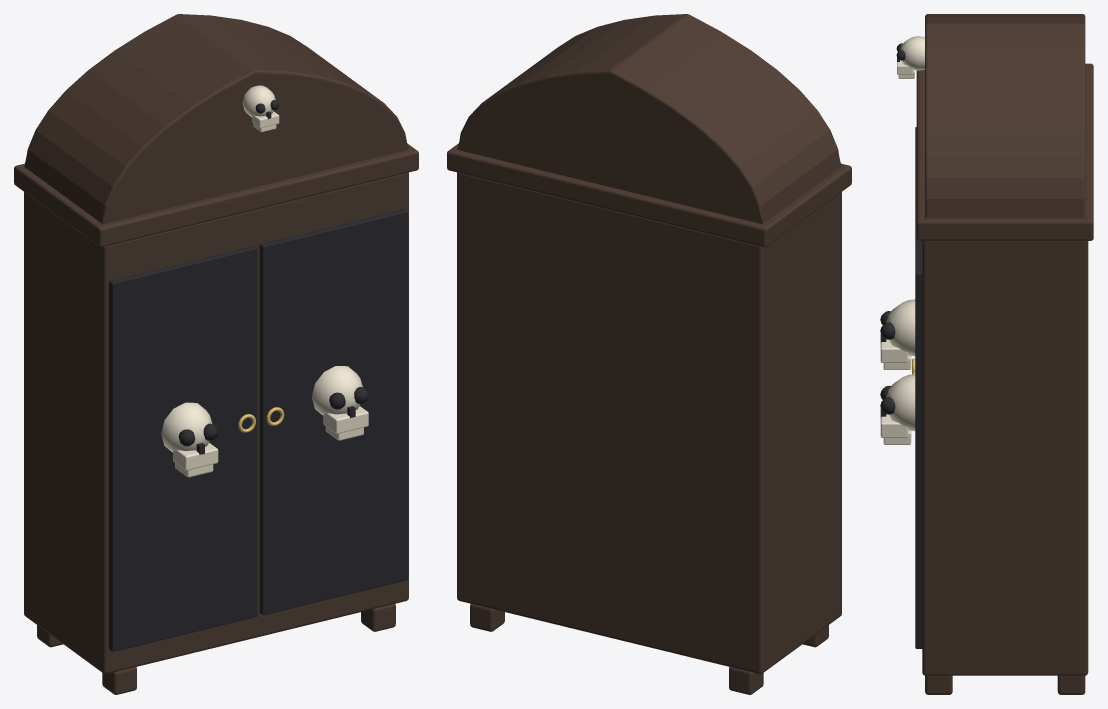
The model's file is wardrobe_carved_skull.glb.
3 views of the same model, side by side, from view 1: azimuth 30°, elevation 25°; view 2: azimuth 150°, elevation 25°; view 3: azimuth 270°, elevation 25° (orthographic).
Visible parts, largest first — view 1: GD_wardrobe_carved_skull__m0, GD_wardrobe_carved_skull__m3, GD_wardrobe_carved_skull__m2; view 2: GD_wardrobe_carved_skull__m0; view 3: GD_wardrobe_carved_skull__m0, GD_wardrobe_carved_skull__m2, GD_wardrobe_carved_skull__m3.
Boxes of the visible parts, x1,y1,x2,y2 form: GD_wardrobe_carved_skull__m0: [14, 14, 418, 694]; GD_wardrobe_carved_skull__m3: [109, 100, 408, 651]; GD_wardrobe_carved_skull__m2: [161, 85, 368, 477]; GD_wardrobe_carved_skull__m0: [447, 14, 851, 694]; GD_wardrobe_carved_skull__m0: [916, 14, 1093, 694]; GD_wardrobe_carved_skull__m2: [880, 36, 924, 444]; GD_wardrobe_carved_skull__m3: [880, 43, 922, 648].
Bounding box in the file's own units: 1.36 × 2.4 × 0.772.
